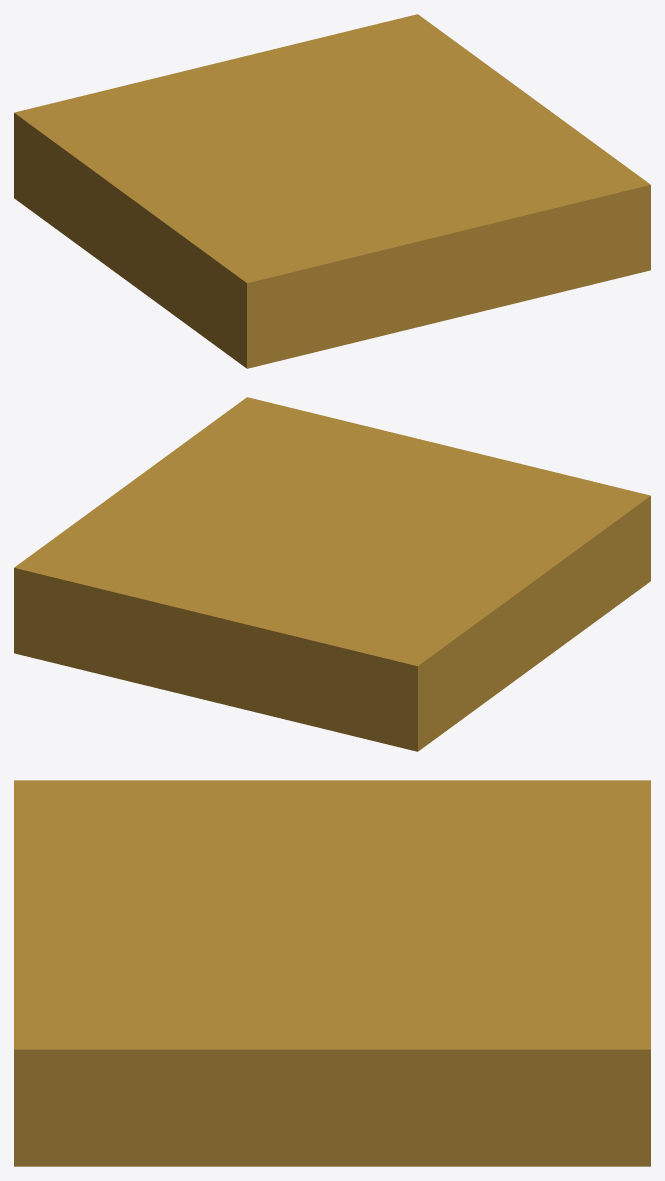
The model's file is ChaoRATOO.fbx.
3 views of the same model, one above another, from view 1: azimuth 30°, elevation 25°; view 2: azimuth 150°, elevation 25°; view 3: azimuth 270°, elevation 25° (orthographic). The views are drawn at different scales.
Visible parts, largest first — view 1: Cube; view 2: Cube; view 3: Cube.
Boxes of the visible parts, x1,y1,x2,y2 form: Cube: (14,14,650,368); Cube: (14,397,650,751); Cube: (14,780,650,1166).
Size of the model in its own units: 393 by 79.59 by 393.
